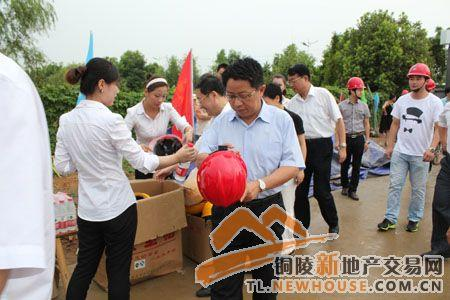helmet: (197, 151, 249, 208), (408, 64, 433, 80), (346, 78, 368, 90), (427, 79, 438, 91)
